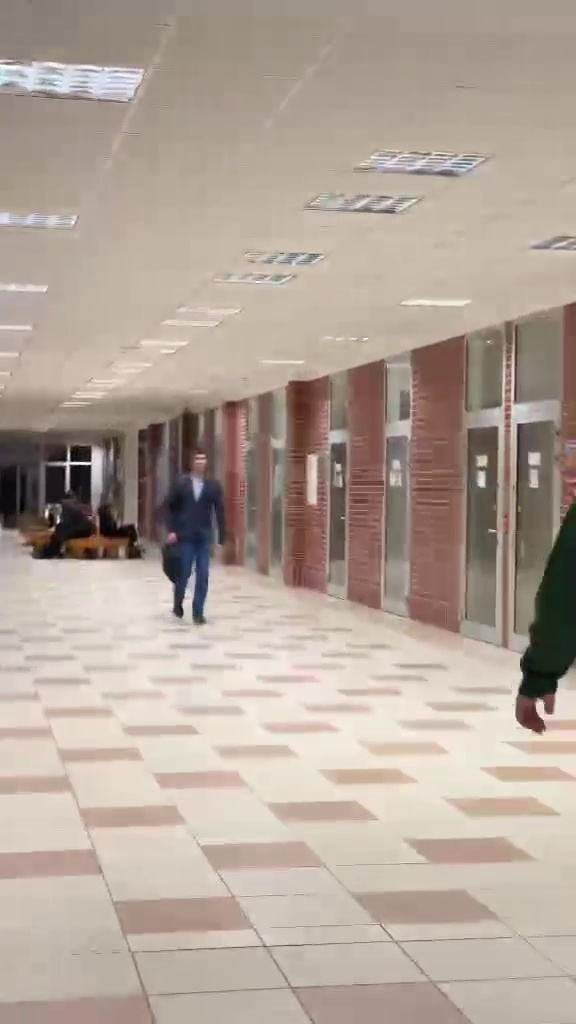no vest: (153, 439, 236, 615)
